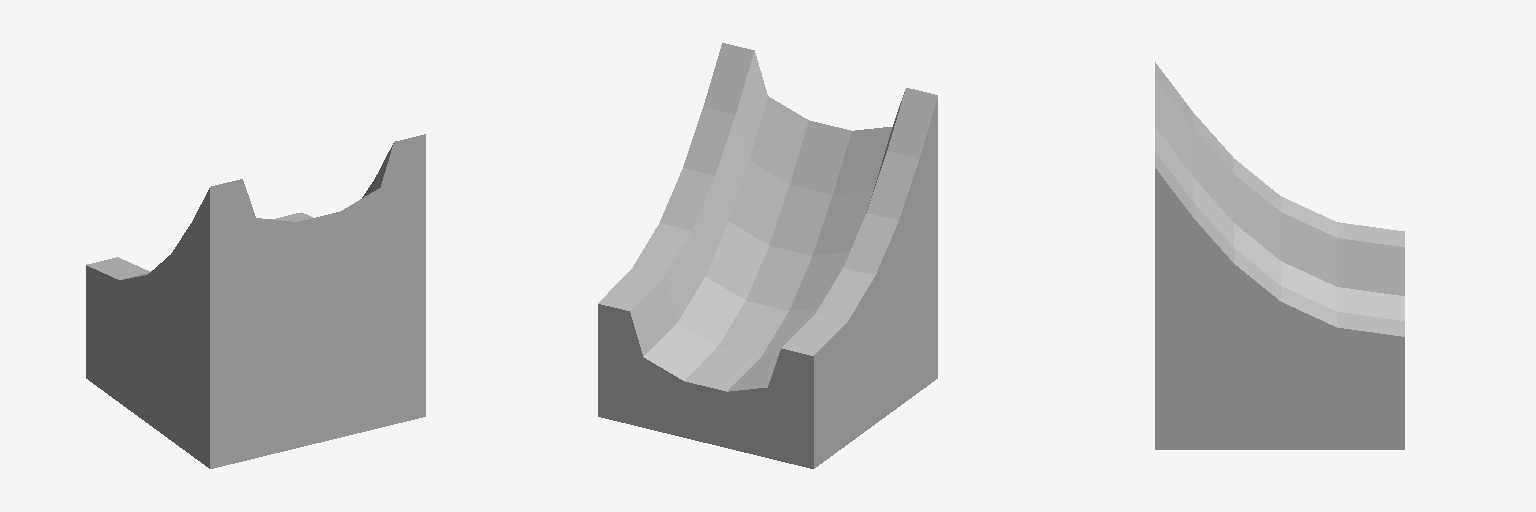
The model's file is ramp-start-solid-d.obj.
3 views of the same model, side by side, from view 1: azimuth 30°, elevation 25°; view 2: azimuth 150°, elevation 25°; view 3: azimuth 270°, elevation 25° (orthographic).
Visible parts, largest first — view 1: ramp-start-solid-d; view 2: ramp-start-solid-d; view 3: ramp-start-solid-d.
Part boxes in pixels (left/top/right/bottom): ramp-start-solid-d: left=86, top=134, right=425, bottom=468; ramp-start-solid-d: left=598, top=43, right=937, bottom=468; ramp-start-solid-d: left=1155, top=62, right=1404, bottom=449.
Size of the model in its own units: 1 by 1.25 by 1.